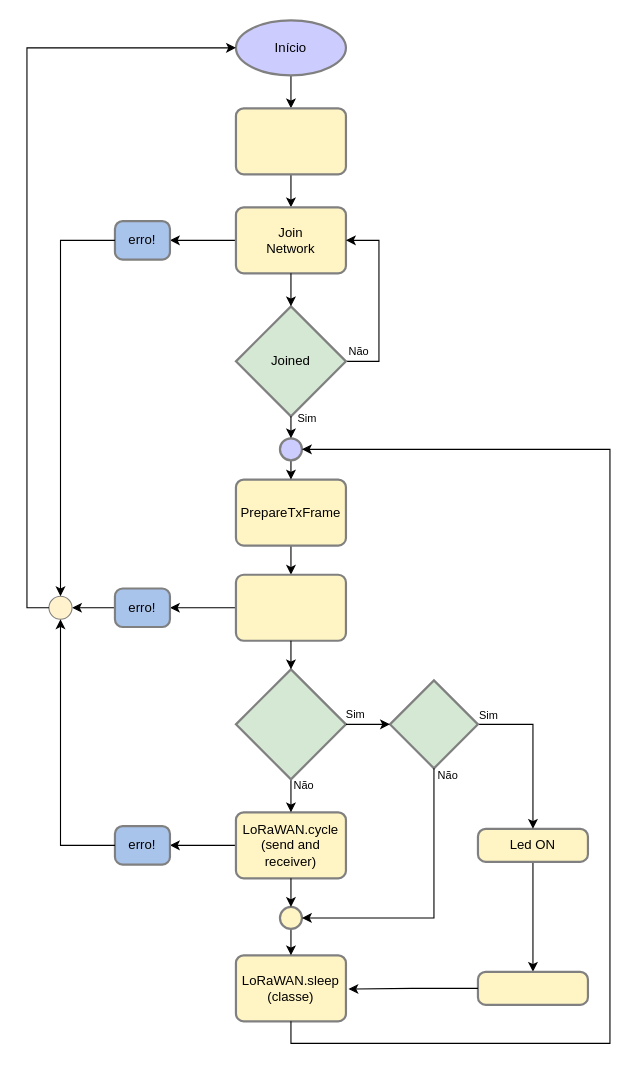
Image size: 638x1071. Some labels were removed from this diagram. Each missing label, with the centre of its shape:
"Led OFF" belongs at point (532, 987).
"LoRaWAN.send" belongs at point (290, 607).
"Message led:0" belongs at point (433, 724).
"Message received" belongs at point (290, 724).
"Setup" belongs at point (290, 141).
